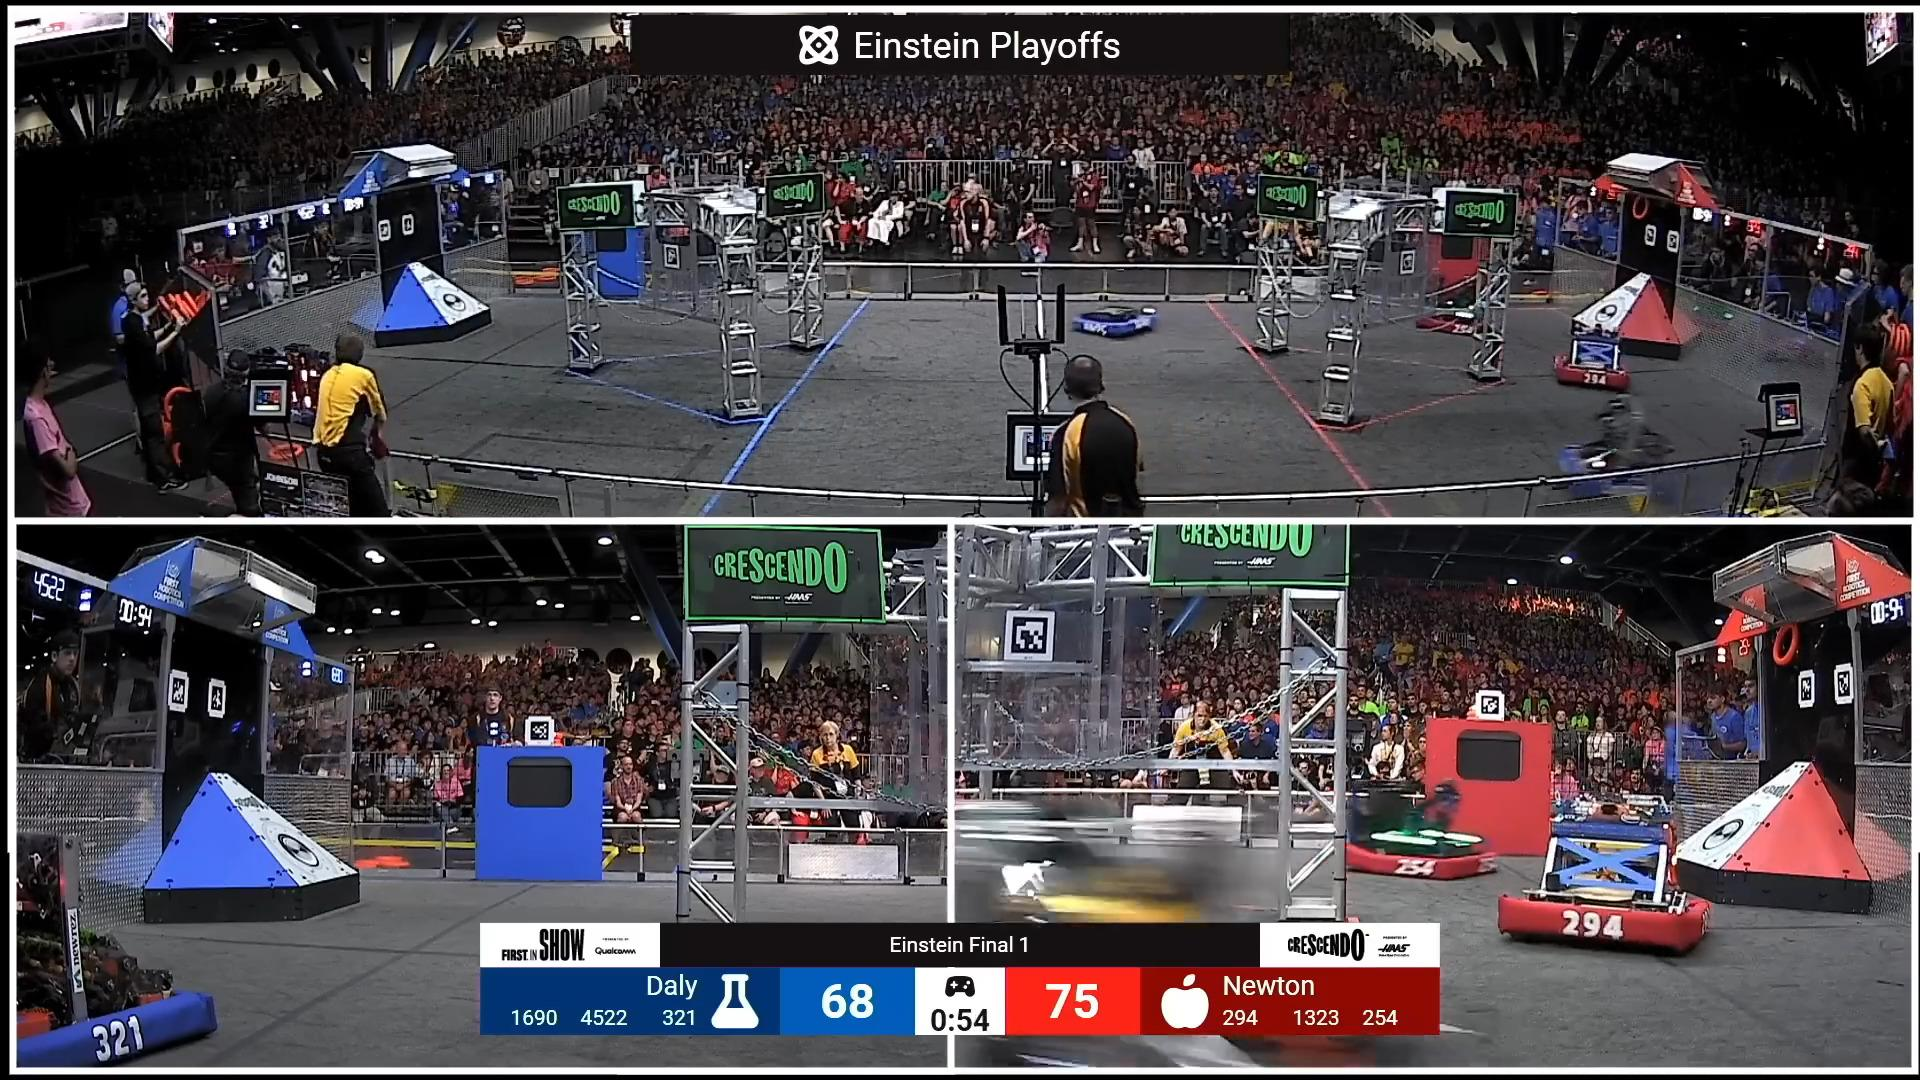blue_idle: (18, 820, 237, 1063), (1065, 287, 1189, 360)
note: (1762, 616, 1803, 671), (1630, 185, 1664, 229)
red_shooting: (1514, 782, 1716, 969), (1331, 750, 1509, 894), (1532, 313, 1656, 400), (1412, 280, 1505, 345)
